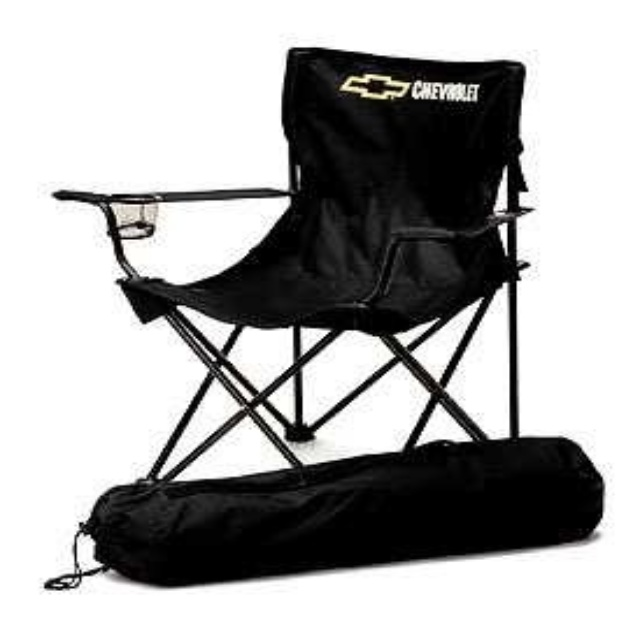obstacle: (54, 47, 600, 582)
